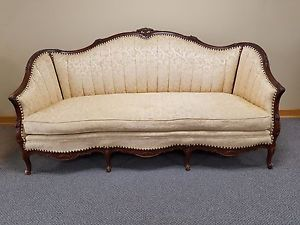chairs: (8, 28, 286, 176)
